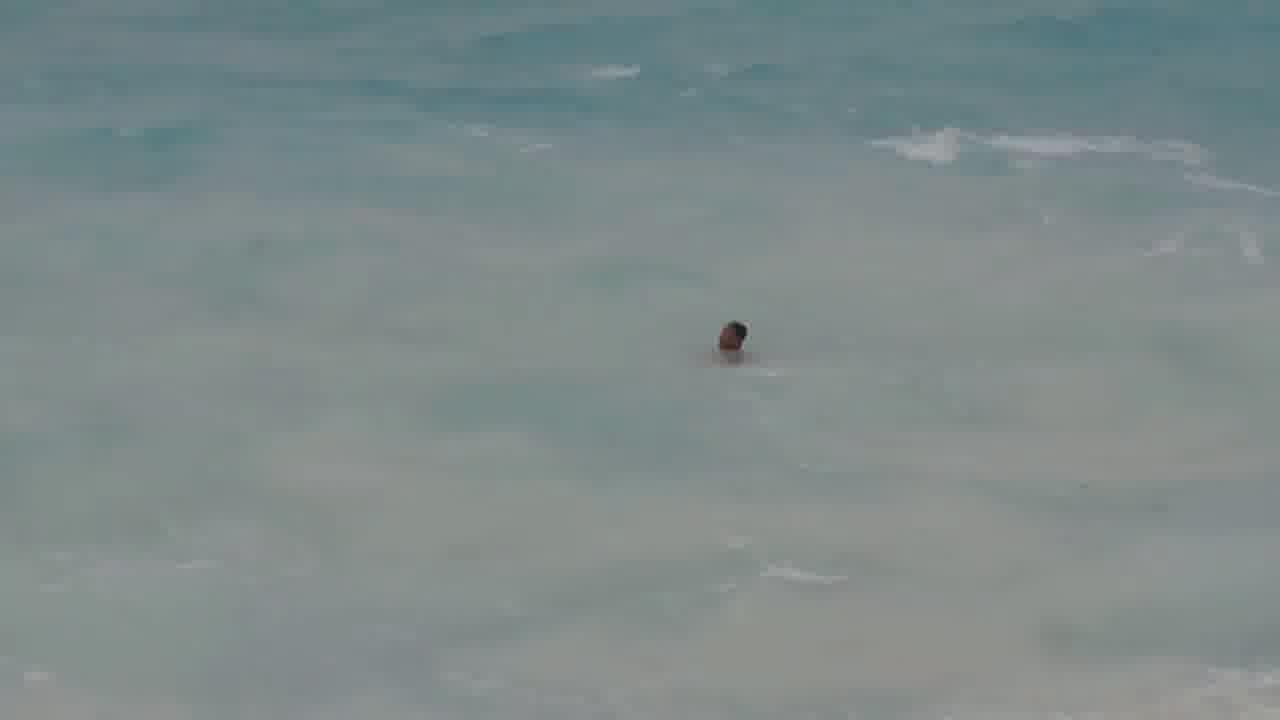swimmer: (708, 304, 753, 375)
